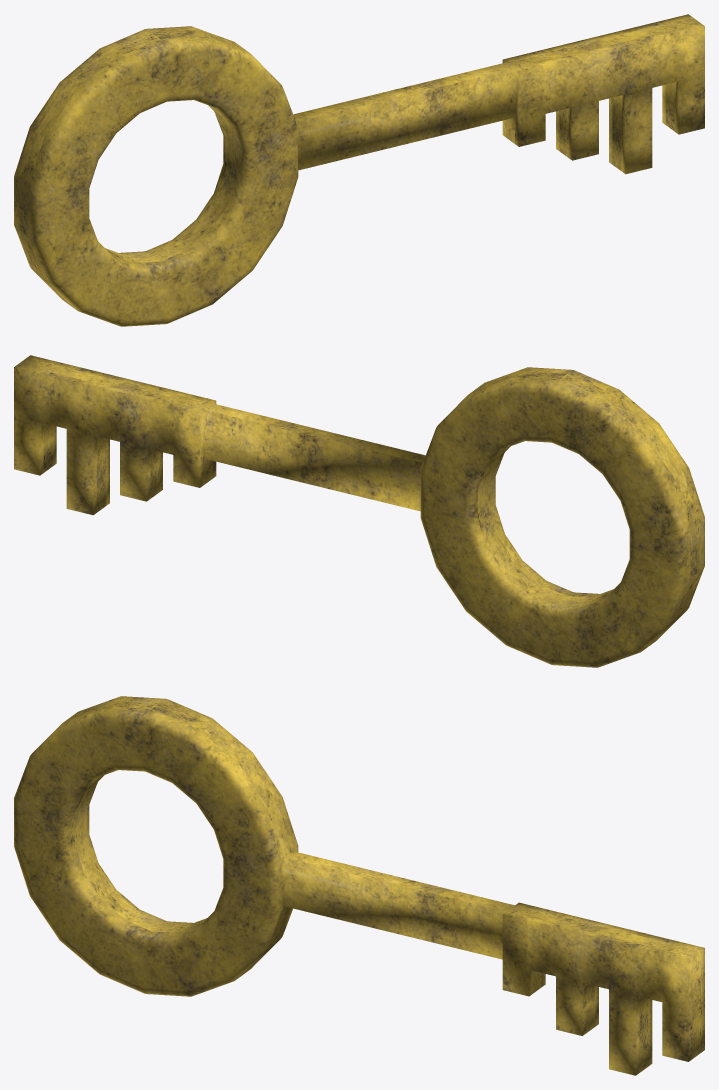
File: Llave.obj
The picture shows the model from 3 angles, top to bottom: view 1: azimuth 30°, elevation 25°; view 2: azimuth 150°, elevation 25°; view 3: azimuth 330°, elevation 25°; orthographic projection.
Parts seen in each view (by area): view 1: Llave; view 2: Llave; view 3: Llave.
Boxes of the visible parts, left/top/right/bottom form: Llave: left=14, top=14, right=704, bottom=326; Llave: left=14, top=355, right=704, bottom=667; Llave: left=14, top=696, right=704, bottom=1075.
Size of the model in its own units: 2.46 by 0.9824 by 0.165.
1 material, 1 textured.
